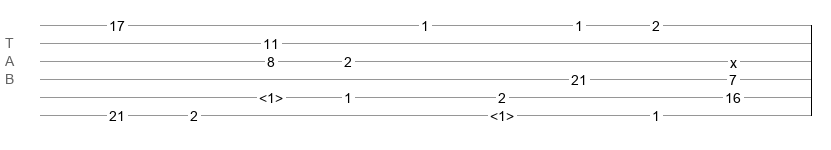1: (344, 90, 352, 100), (421, 18, 429, 28), (575, 18, 583, 28), (652, 108, 660, 118)
11: (263, 36, 279, 46)
16: (725, 90, 741, 100)
17: (109, 18, 125, 28)
2: (190, 108, 198, 118), (344, 54, 352, 64), (498, 90, 506, 100), (652, 18, 660, 28)
21: (109, 108, 125, 118), (571, 72, 587, 82)
7: (729, 72, 737, 82)
8: (267, 54, 275, 64)
harmonic: (259, 90, 283, 100), (490, 108, 514, 118)
x: (730, 55, 737, 63)
